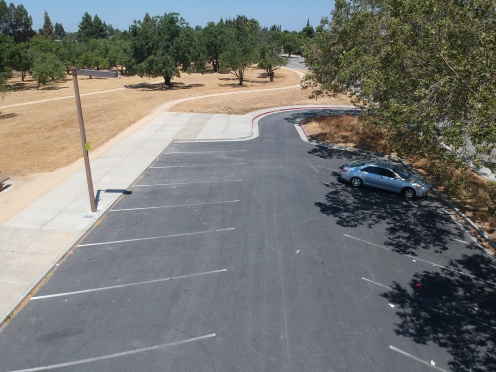plastic bag: (413, 280, 427, 288)
